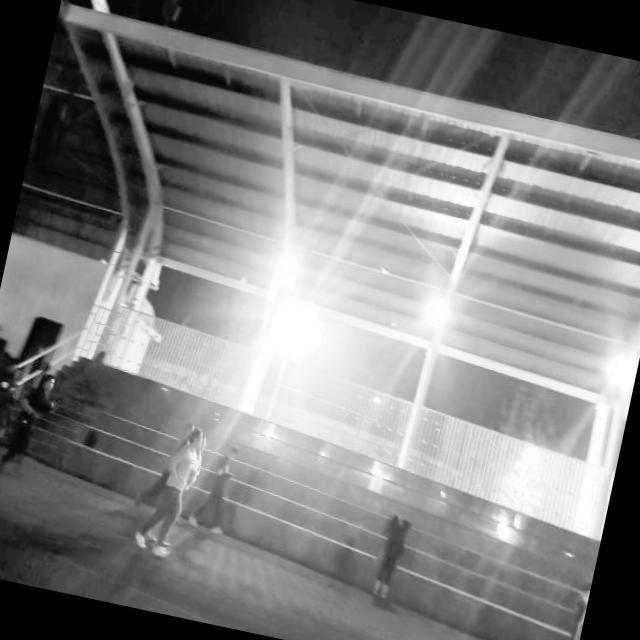Light: (379, 242, 504, 380), (563, 315, 640, 430), (252, 220, 310, 308), (267, 291, 332, 366), (500, 426, 553, 474), (364, 380, 388, 412)
